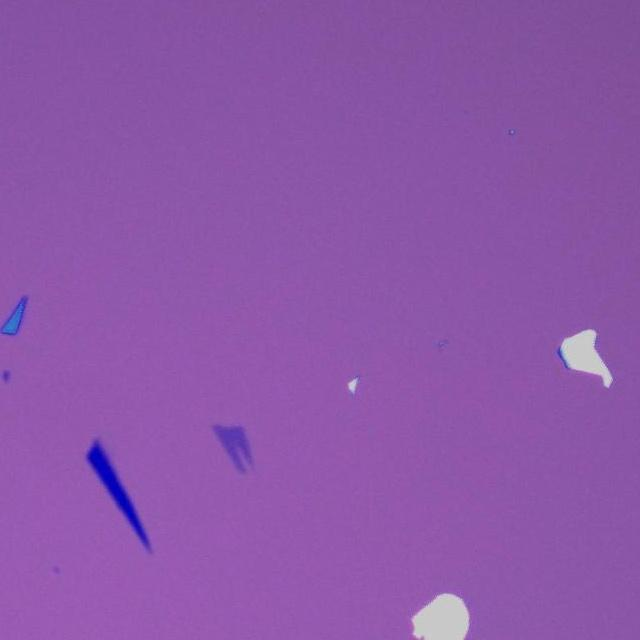monolayer-eWW4: (212, 423, 256, 474)
